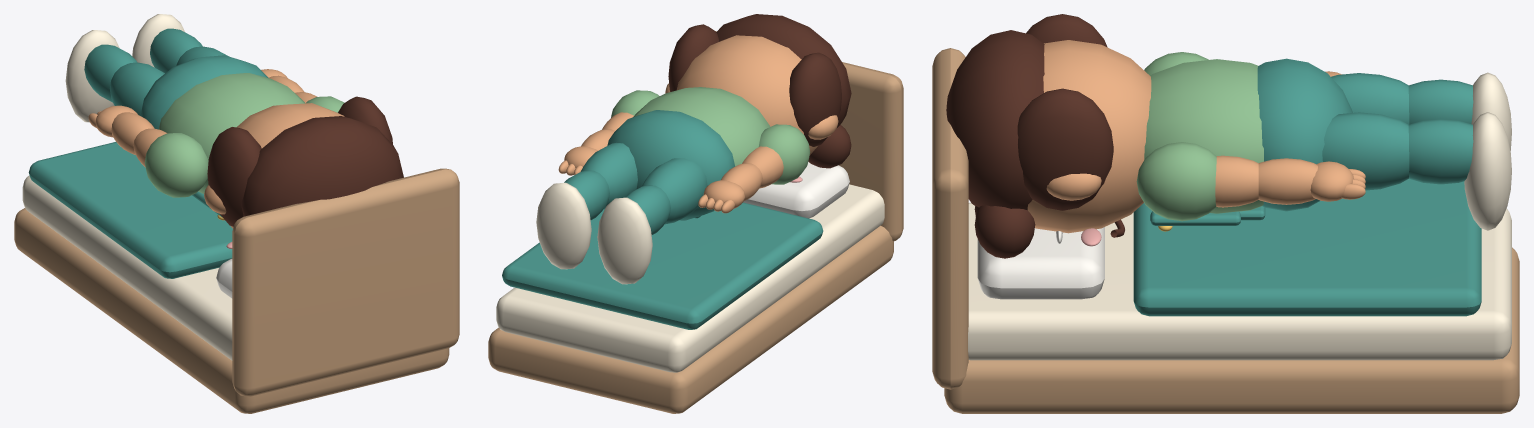
The model's file is daddy-sleep.glb.
The picture shows the model from 3 angles, left to right: view 1: azimuth 30°, elevation 25°; view 2: azimuth 150°, elevation 25°; view 3: azimuth 270°, elevation 25°; orthographic projection. The views are drawn at different scales.
Visible parts, largest first — view 1: headboard, quilt, bed base, hair cap, soft mattress, soft shirt, bob hair, shirt sleeve, overalls, little shoe, clay head, trouser leg (+9 smaller); view 2: quilt, bed base, soft mattress, headboard, clay head, overalls, soft shirt, little shoe, little shoe.001, bob hair, hair cap, pillow (+14 smaller); view 3: quilt, soft mattress, bed base, hair cap, clay head, headboard, soft shirt, bob hair.001, overalls, pillow, shirt sleeve.001, trouser leg.001 (+13 smaller).
Boxes of the visible parts, <box> form: headboard: <box>232,168,459,396</box>; quilt: <box>28,142,232,278</box>; bed base: <box>14,208,449,413</box>; hair cap: <box>241,116,403,216</box>; soft mattress: <box>22,175,232,360</box>; soft shirt: <box>158,73,304,193</box>; bob hair: <box>207,127,261,226</box>; shirt sleeve: <box>144,133,208,197</box>; overalls: <box>140,55,268,129</box>; little shoe: <box>65,30,119,122</box>; clay head: <box>231,103,344,228</box>; trouser leg: <box>110,62,164,115</box>; quilt: <box>502,202,823,329</box>; bed base: <box>488,225,893,413</box>; soft mattress: <box>496,184,884,372</box>; headboard: <box>715,31,903,241</box>; clay head: <box>677,35,817,155</box>; overalls: <box>607,110,734,220</box>; soft shirt: <box>633,87,770,166</box>; little shoe: <box>597,197,652,284</box>; little shoe.001: <box>536,182,591,269</box>; bob hair: <box>789,52,841,146</box>; hair cap: <box>716,14,851,127</box>; pillow: <box>743,162,849,218</box>; quilt: <box>1133,179,1481,316</box>; soft mattress: <box>968,202,1511,360</box>; bed base: <box>944,247,1519,413</box>; hair cap: <box>946,30,1044,210</box>; clay head: <box>1027,40,1151,233</box>; headboard: <box>932,48,968,389</box>; soft shirt: <box>1144,59,1263,213</box>; bob hair.001: <box>1017,88,1113,210</box>; overalls: <box>1257,58,1352,211</box>; pillow: <box>977,227,1104,299</box>; shirt sleeve.001: <box>1136,142,1216,221</box>; trouser leg.001: <box>1322,112,1409,190</box>.
Size of the model in its own units: 1.05 by 1.15 by 1.94.
